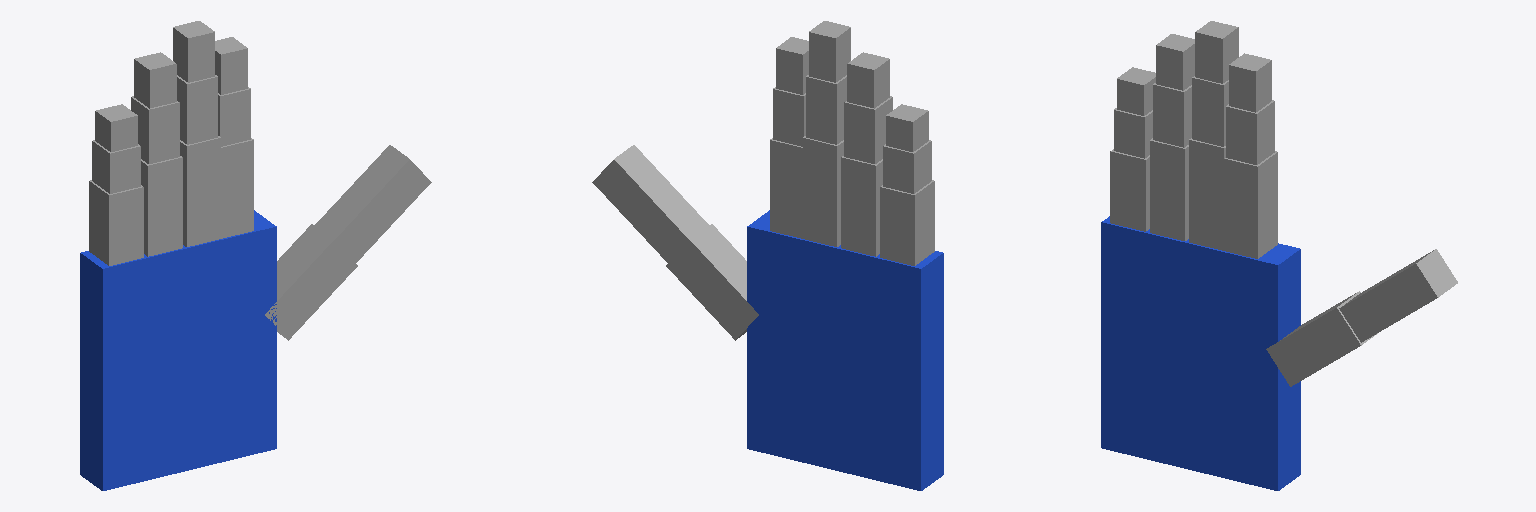
robot.urdf — robot_hand:
<?xml version="1.0" ?>
<!-- =================================================================================== -->
<!-- |    This document was autogenerated by xacro from urdf/hand.urdf.xacro           | -->
<!-- |    EDITING THIS FILE BY HAND IS NOT RECOMMENDED                                 | -->
<!-- =================================================================================== -->
<robot name="robot_hand">
  <!-- Materials -->
  <material name="blue">
    <color rgba="0.2 0.4 0.9 1"/>
  </material>
  <material name="gray">
    <color rgba="0.7 0.7 0.7 1"/>
  </material>
  <!-- Palm -->
  <link name="palm">
    <visual>
      <geometry>
        <box size="0.09 0.02 0.11"/>
      </geometry>
      <material name="blue"/>
    </visual>
  </link>
  <!-- Proximal segment -->
  <link name="index_proximal">
    <visual>
      <origin xyz="0 0 0.0225"/>
      <geometry>
        <box size="0.018 0.018 0.045"/>
      </geometry>
      <material name="gray"/>
    </visual>
  </link>
  <joint name="index_mcp" type="revolute">
    <parent link="palm"/>
    <child link="index_proximal"/>
    <origin rpy="0 0 0" xyz="0.025 0 0.055"/>
    <axis xyz="1 0 0"/>
    <limit effort="1" lower="0" upper="1.57" velocity="1"/>
  </joint>
  <!-- Middle segment -->
  <link name="index_middle">
    <visual>
      <origin xyz="0 0 0.0125"/>
      <geometry>
        <box size="0.016 0.016 0.025"/>
      </geometry>
      <material name="gray"/>
    </visual>
  </link>
  <joint name="index_pip" type="revolute">
    <parent link="index_proximal"/>
    <child link="index_middle"/>
    <origin xyz="0 0 0.045"/>
    <axis xyz="1 0 0"/>
    <limit effort="1" lower="0" upper="1.75" velocity="1"/>
  </joint>
  <!-- Distal segment -->
  <link name="index_distal">
    <visual>
      <origin xyz="0 0 0.01"/>
      <geometry>
        <box size="0.014 0.014 0.02"/>
      </geometry>
      <material name="gray"/>
    </visual>
  </link>
  <joint name="index_dip" type="revolute">
    <parent link="index_middle"/>
    <child link="index_distal"/>
    <origin xyz="0 0 0.025"/>
    <axis xyz="1 0 0"/>
    <limit effort="1" lower="0" upper="1.4" velocity="1"/>
  </joint>
  <!-- Proximal segment -->
  <link name="middle_proximal">
    <visual>
      <origin xyz="0 0 0.025"/>
      <geometry>
        <box size="0.018 0.018 0.05"/>
      </geometry>
      <material name="gray"/>
    </visual>
  </link>
  <joint name="middle_mcp" type="revolute">
    <parent link="palm"/>
    <child link="middle_proximal"/>
    <origin rpy="0 0 0" xyz="0.008 0 0.055"/>
    <axis xyz="1 0 0"/>
    <limit effort="1" lower="0" upper="1.57" velocity="1"/>
  </joint>
  <!-- Middle segment -->
  <link name="middle_middle">
    <visual>
      <origin xyz="0 0 0.015"/>
      <geometry>
        <box size="0.016 0.016 0.03"/>
      </geometry>
      <material name="gray"/>
    </visual>
  </link>
  <joint name="middle_pip" type="revolute">
    <parent link="middle_proximal"/>
    <child link="middle_middle"/>
    <origin xyz="0 0 0.05"/>
    <axis xyz="1 0 0"/>
    <limit effort="1" lower="0" upper="1.75" velocity="1"/>
  </joint>
  <!-- Distal segment -->
  <link name="middle_distal">
    <visual>
      <origin xyz="0 0 0.011"/>
      <geometry>
        <box size="0.014 0.014 0.022"/>
      </geometry>
      <material name="gray"/>
    </visual>
  </link>
  <joint name="middle_dip" type="revolute">
    <parent link="middle_middle"/>
    <child link="middle_distal"/>
    <origin xyz="0 0 0.03"/>
    <axis xyz="1 0 0"/>
    <limit effort="1" lower="0" upper="1.4" velocity="1"/>
  </joint>
  <!-- Proximal segment -->
  <link name="ring_proximal">
    <visual>
      <origin xyz="0 0 0.0225"/>
      <geometry>
        <box size="0.018 0.018 0.045"/>
      </geometry>
      <material name="gray"/>
    </visual>
  </link>
  <joint name="ring_mcp" type="revolute">
    <parent link="palm"/>
    <child link="ring_proximal"/>
    <origin rpy="0 0 0" xyz="-0.012 0 0.055"/>
    <axis xyz="1 0 0"/>
    <limit effort="1" lower="0" upper="1.57" velocity="1"/>
  </joint>
  <!-- Middle segment -->
  <link name="ring_middle">
    <visual>
      <origin xyz="0 0 0.0135"/>
      <geometry>
        <box size="0.016 0.016 0.027"/>
      </geometry>
      <material name="gray"/>
    </visual>
  </link>
  <joint name="ring_pip" type="revolute">
    <parent link="ring_proximal"/>
    <child link="ring_middle"/>
    <origin xyz="0 0 0.045"/>
    <axis xyz="1 0 0"/>
    <limit effort="1" lower="0" upper="1.75" velocity="1"/>
  </joint>
  <!-- Distal segment -->
  <link name="ring_distal">
    <visual>
      <origin xyz="0 0 0.0095"/>
      <geometry>
        <box size="0.014 0.014 0.019"/>
      </geometry>
      <material name="gray"/>
    </visual>
  </link>
  <joint name="ring_dip" type="revolute">
    <parent link="ring_middle"/>
    <child link="ring_distal"/>
    <origin xyz="0 0 0.027"/>
    <axis xyz="1 0 0"/>
    <limit effort="1" lower="0" upper="1.4" velocity="1"/>
  </joint>
  <!-- Proximal segment -->
  <link name="pinky_proximal">
    <visual>
      <origin xyz="0 0 0.0175"/>
      <geometry>
        <box size="0.018 0.018 0.035"/>
      </geometry>
      <material name="gray"/>
    </visual>
  </link>
  <joint name="pinky_mcp" type="revolute">
    <parent link="palm"/>
    <child link="pinky_proximal"/>
    <origin rpy="0 0 0" xyz="-0.032 0 0.055"/>
    <axis xyz="1 0 0"/>
    <limit effort="1" lower="0" upper="1.57" velocity="1"/>
  </joint>
  <!-- Middle segment -->
  <link name="pinky_middle">
    <visual>
      <origin xyz="0 0 0.01"/>
      <geometry>
        <box size="0.016 0.016 0.02"/>
      </geometry>
      <material name="gray"/>
    </visual>
  </link>
  <joint name="pinky_pip" type="revolute">
    <parent link="pinky_proximal"/>
    <child link="pinky_middle"/>
    <origin xyz="0 0 0.035"/>
    <axis xyz="1 0 0"/>
    <limit effort="1" lower="0" upper="1.75" velocity="1"/>
  </joint>
  <!-- Distal segment -->
  <link name="pinky_distal">
    <visual>
      <origin xyz="0 0 0.0075"/>
      <geometry>
        <box size="0.014 0.014 0.015"/>
      </geometry>
      <material name="gray"/>
    </visual>
  </link>
  <joint name="pinky_dip" type="revolute">
    <parent link="pinky_middle"/>
    <child link="pinky_distal"/>
    <origin xyz="0 0 0.02"/>
    <axis xyz="1 0 0"/>
    <limit effort="1" lower="0" upper="1.4" velocity="1"/>
  </joint>
  <!-- Simplified two-segment thumb -->
  <link name="thumb_proximal">
    <visual>
      <origin xyz="0 0 0.023"/>
      <geometry>
        <box size="0.020 0.020 0.046"/>
      </geometry>
      <material name="gray"/>
    </visual>
  </link>
  <joint name="thumb_base" type="revolute">
    <parent link="palm"/>
    <child link="thumb_proximal"/>
    <origin rpy="0 0.9 0" xyz="0.045 0 0.005"/>
    <axis xyz="1 0 0"/>
    <limit effort="1" lower="0" upper="1.57" velocity="1"/>
  </joint>
  <link name="thumb_distal">
    <visual>
      <origin xyz="0 0 0.025"/>
      <geometry>
        <box size="0.018 0.018 0.050"/>
      </geometry>
      <material name="gray"/>
    </visual>
  </link>
  <joint name="thumb_ip" type="revolute">
    <parent link="thumb_proximal"/>
    <child link="thumb_distal"/>
    <origin xyz="0 0 0.046"/>
    <axis xyz="1 0 0"/>
    <limit effort="1" lower="0" upper="1.4" velocity="1"/>
  </joint>
</robot>

--- What the picture shows (computed from the rendered views, not written in the file) ---
The picture shows the robot from 3 angles, left to right: view 1: azimuth 30°, elevation 25°; view 2: azimuth 150°, elevation 25°; view 3: azimuth 330°, elevation 25°; orthographic projection.
Robot: robot_hand — 15 links, 14 joints (14 revolute); root link palm; default pose: every joint at zero.
Links seen in each view (by area): view 1: palm, thumb_distal, thumb_proximal, pinky_proximal, middle_proximal, ring_proximal, index_proximal, middle_middle, ring_middle, middle_distal, ring_distal, pinky_middle (+3 smaller); view 2: palm, thumb_distal, thumb_proximal, pinky_proximal, middle_proximal, ring_proximal, index_proximal, middle_middle, ring_middle, middle_distal, ring_distal, pinky_middle (+3 smaller); view 3: palm, index_proximal, thumb_distal, thumb_proximal, ring_proximal, middle_proximal, pinky_proximal, index_middle, middle_distal, middle_middle, ring_middle, index_distal (+3 smaller).
Boxes of the visible links, x1,y1,x2,y2 form: palm: [80, 210, 276, 490]; thumb_distal: [315, 145, 431, 262]; thumb_proximal: [265, 224, 357, 340]; pinky_proximal: [89, 180, 143, 265]; middle_proximal: [180, 136, 220, 246]; ring_proximal: [141, 156, 182, 256]; index_proximal: [219, 138, 253, 238]; middle_middle: [177, 75, 217, 144]; ring_middle: [131, 96, 179, 163]; middle_distal: [173, 21, 214, 82]; ring_distal: [134, 52, 176, 108]; pinky_middle: [92, 140, 140, 193]; palm: [747, 210, 943, 490]; thumb_distal: [592, 145, 708, 262]; thumb_proximal: [666, 224, 758, 340]; pinky_proximal: [880, 180, 934, 265]; middle_proximal: [803, 136, 843, 246]; ring_proximal: [841, 156, 882, 256]; index_proximal: [770, 138, 804, 238]; middle_middle: [806, 75, 846, 144]; ring_middle: [844, 96, 892, 163]; middle_distal: [809, 21, 850, 82]; ring_distal: [847, 52, 889, 108]; pinky_middle: [883, 140, 931, 193]; palm: [1101, 216, 1300, 490]; index_proximal: [1222, 151, 1277, 258]; thumb_distal: [1339, 249, 1457, 342]; thumb_proximal: [1266, 291, 1377, 386]; ring_proximal: [1150, 138, 1188, 240]; middle_proximal: [1189, 138, 1225, 250]; pinky_proximal: [1110, 149, 1149, 231]; index_middle: [1226, 100, 1274, 164]; middle_distal: [1195, 21, 1238, 83]; middle_middle: [1192, 76, 1228, 146]; ring_middle: [1153, 83, 1191, 147]; index_distal: [1229, 53, 1271, 112].
Bounding box of the posed robot: 0.1708 × 0.02 × 0.212 m (x, y, z).
Geometry: primitives only (box / cylinder / sphere), no mesh files.
